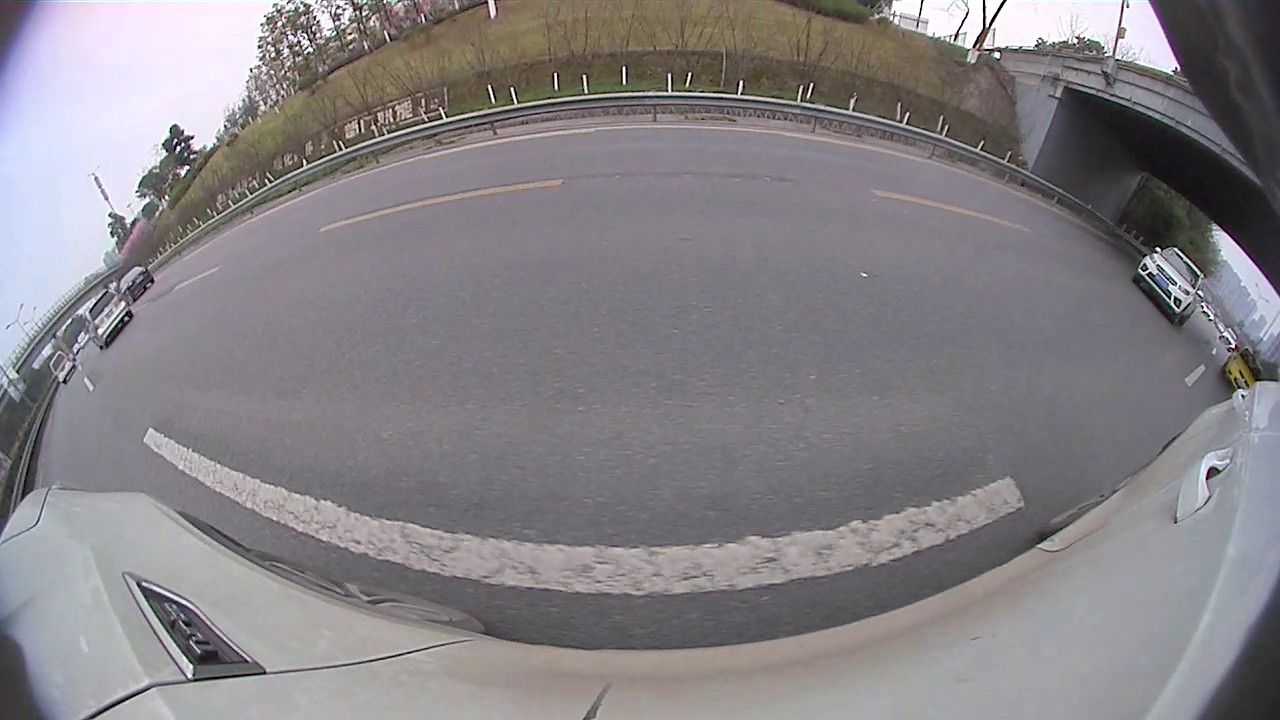car: (1131, 245, 1206, 328), (84, 286, 136, 352), (1219, 344, 1264, 393), (118, 264, 155, 302), (47, 349, 77, 386)
